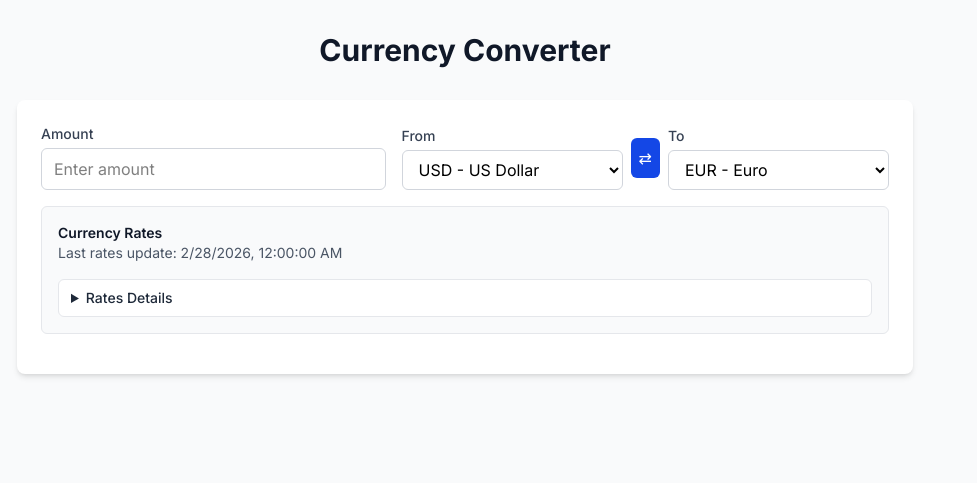
Test: CurrencyConverter currency selection behavior › shows failure notification and keeps previous successful rate when refresh fails
Type "10" into the number field labelled "Amount".
click(213, 169); type("10")  # box [41,148,386,190]
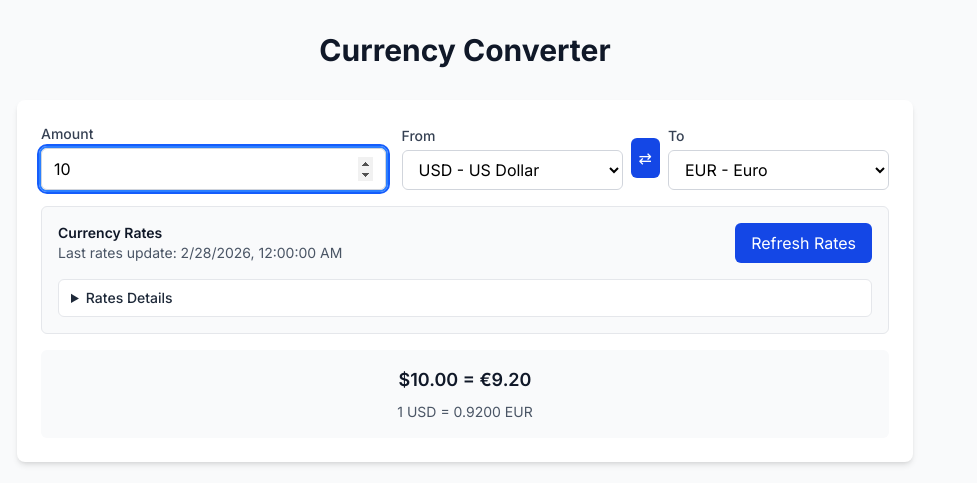
expect the text "1 USD = 0.9200 EUR" is shown: met, box [397,403,533,420]
Click the button "Refresh Rates".
click(804, 243)  # box [735,223,872,263]
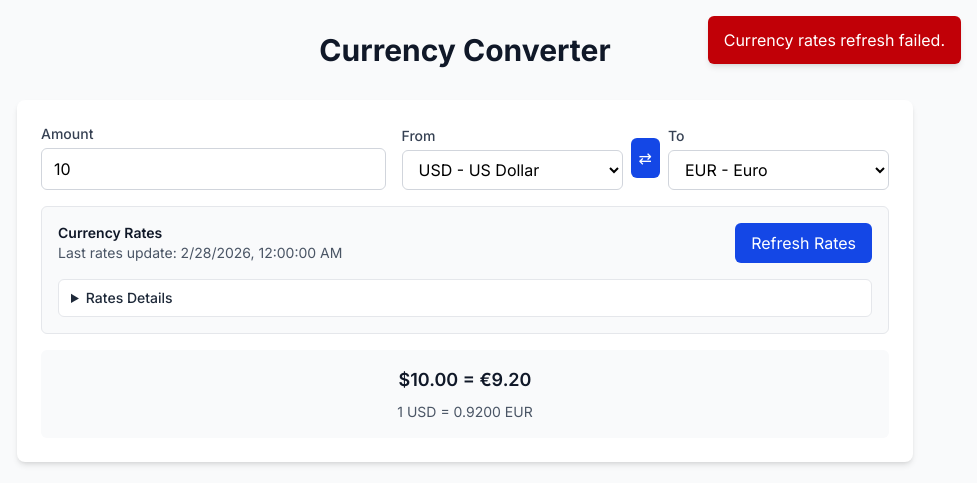
expect the text "1 USD = 0.9200 EUR" is shown: met, box [397,403,533,420]
expect the text "Currency rates refresh failed." is shown: met, box [708,16,961,64]
